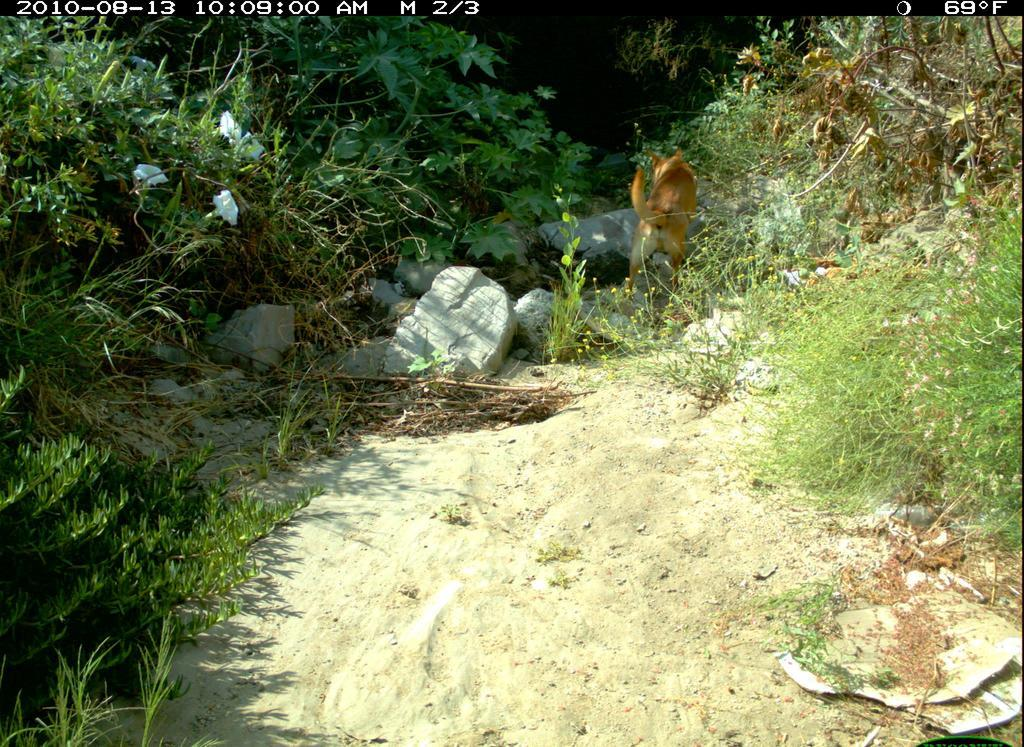dog: (610, 127, 711, 310)
